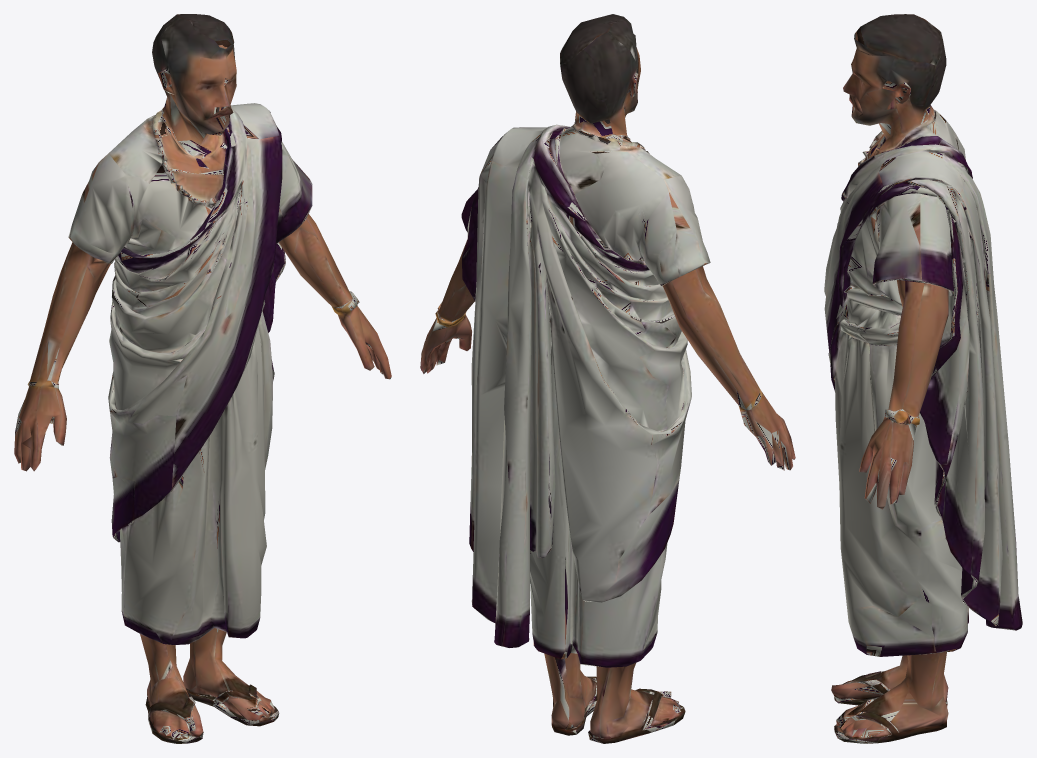
File: patricio.glb
3 renders of one model, left to right at view 1: azimuth 30°, elevation 25°; view 2: azimuth 150°, elevation 25°; view 3: azimuth 270°, elevation 25°, orthographic.
Visible parts, largest first — view 1: patricio; view 2: patricio; view 3: patricio.
Part boxes in pixels (left/top/right/bottom): patricio: left=14, top=14, right=391, bottom=743; patricio: left=420, top=14, right=795, bottom=743; patricio: left=824, top=14, right=1022, bottom=743.
Bounding box in the file's own units: 0.9883 × 1.8 × 0.4648.
Materials: 1 (1 with a texture image).
